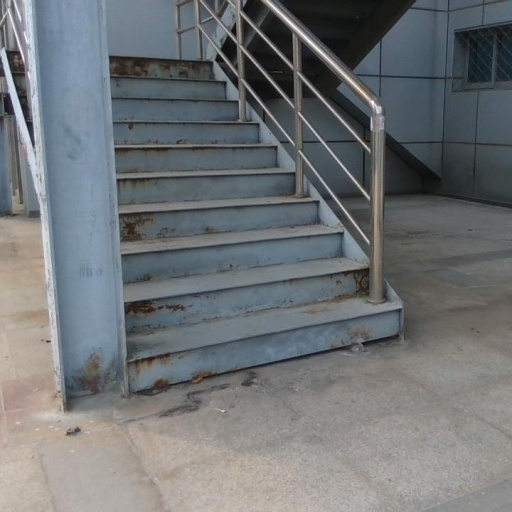Stairs: (111, 58, 400, 392)
